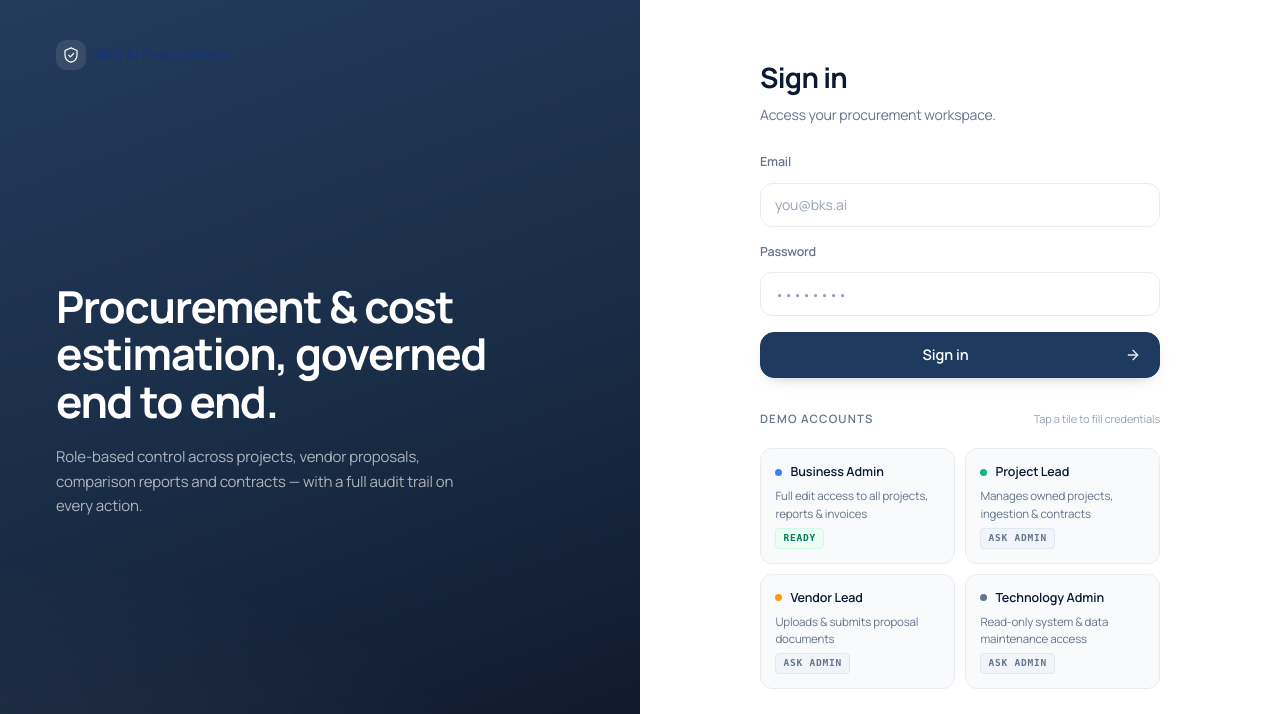
Test: Auth › fills both credentials when the business admin demo is clicked
This screenshot has width=1280, height=714.
Click the button "Business Admin".
click(858, 506)  # box left=760, top=448, right=955, bottom=564
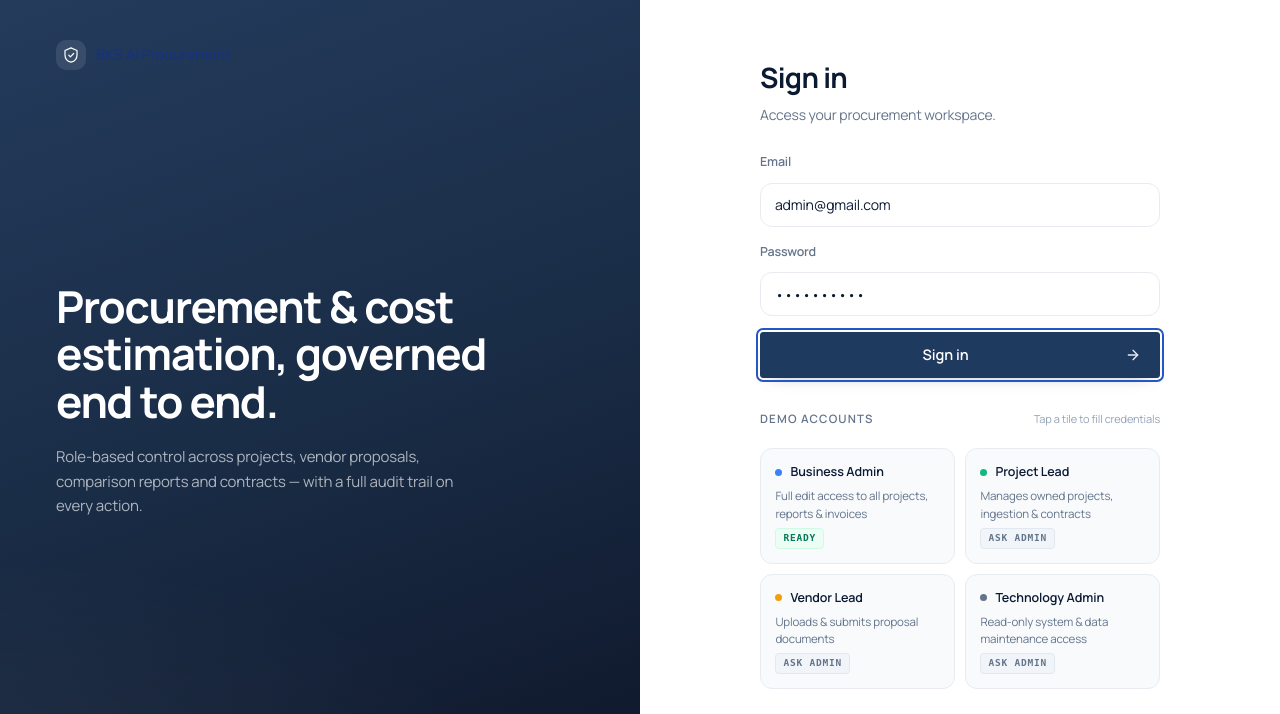
Expected: the field labelled "Email" holds "admin@gmail.com", left=760, top=182, right=1160, bottom=226
Expected: the password field labelled "Password" holds "Admin@1234", left=760, top=272, right=1160, bottom=316
